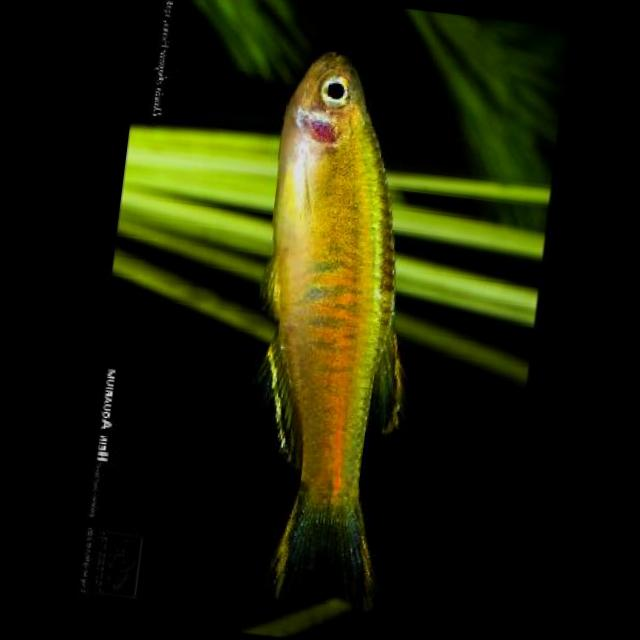ZebraFish: (224, 46, 454, 614)
